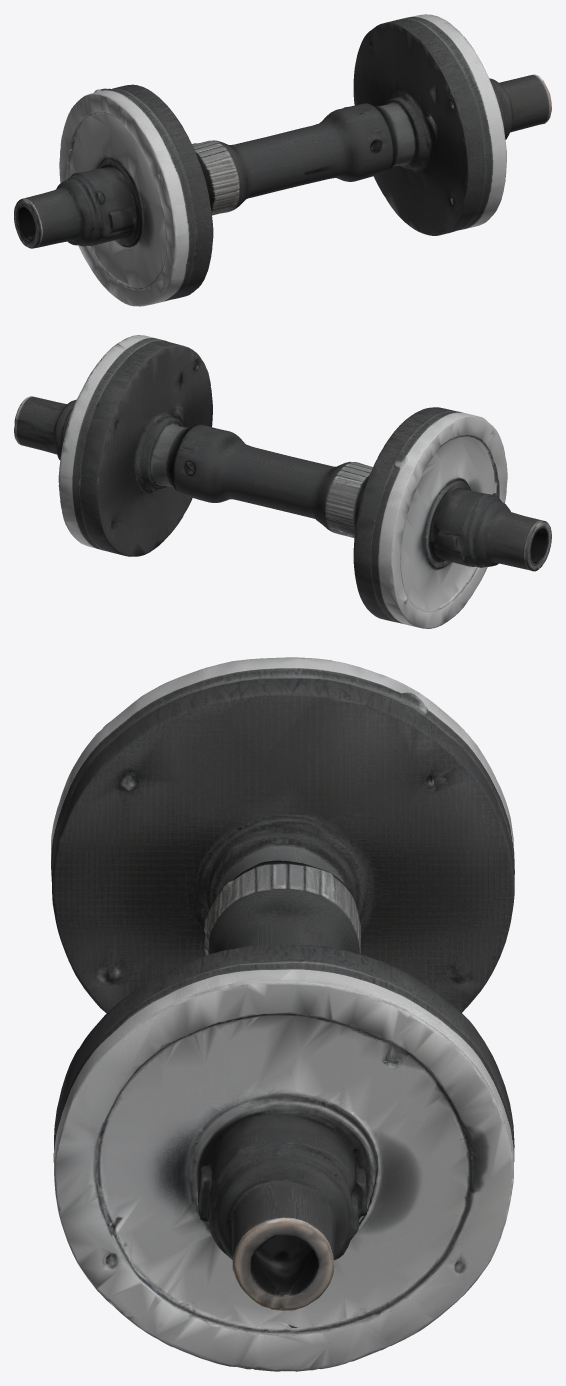
Rendered from crankshaft.glb.
The picture shows the model from 3 angles, top to bottom: view 1: azimuth 30°, elevation 25°; view 2: azimuth 150°, elevation 25°; view 3: azimuth 270°, elevation 25°; orthographic projection. The views are drawn at different scales.
Bounding box in the file's own units: 2 × 0.73 × 0.7825.
1 material, 1 textured.
